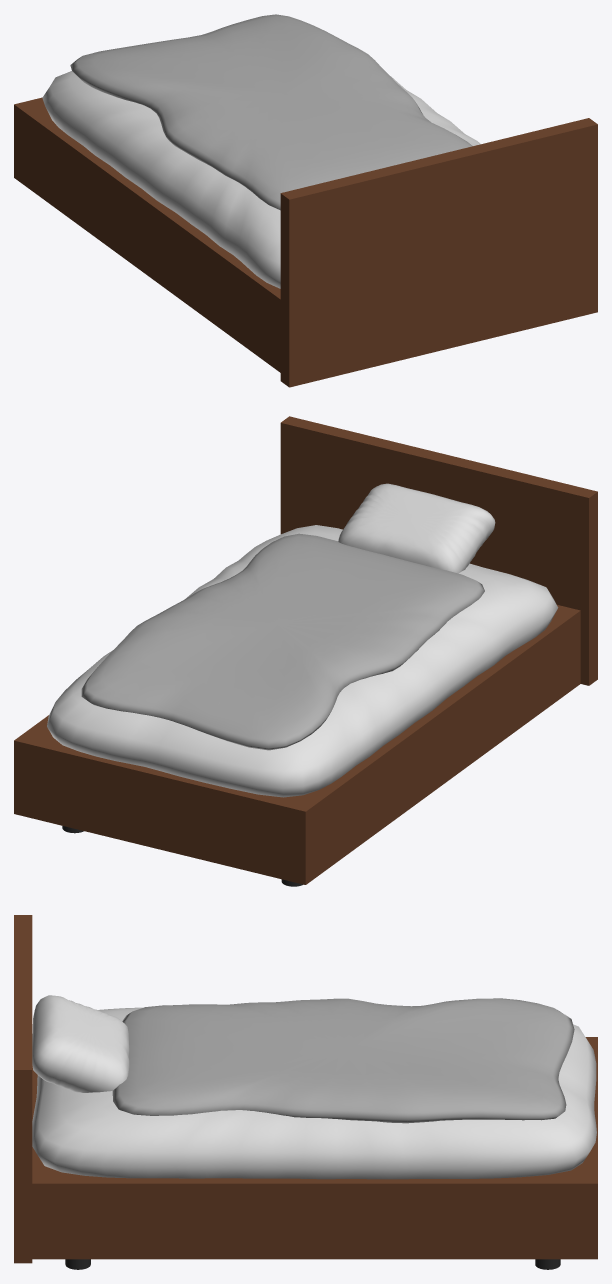
Rendered from Lit1_4.fbx.
The picture shows the model from 3 angles, top to bottom: view 1: azimuth 30°, elevation 25°; view 2: azimuth 150°, elevation 25°; view 3: azimuth 270°, elevation 25°; orthographic projection. The views are drawn at different scales.
Visible parts, largest first — view 1: pCube2134, pCylinder1817, pCube2135, pCylinder1506; view 2: pCylinder1817, pCube2135, pCylinder1506, pCube2134, pCylinder1507; view 3: pCylinder1817, pCube2135, pCylinder1506, pCylinder1507, pCube2134, pCylinder1508.
Boxes of the visible parts, x1=… form: pCube2134: x1=280, y1=118, x2=597, y2=387; pCylinder1817: x1=70, y1=14, x2=472, y2=210; pCube2135: x1=14, y1=97, x2=280, y2=372; pCylinder1506: x1=42, y1=71, x2=480, y2=288; pCylinder1817: x1=81, y1=533, x2=484, y2=750; pCube2135: x1=14, y1=605, x2=580, y2=884; pCylinder1506: x1=47, y1=525, x2=558, y2=797; pCube2134: x1=280, y1=416, x2=597, y2=685; pCylinder1507: x1=338, y1=483, x2=495, y2=573; pCylinder1817: x1=112, y1=998, x2=574, y2=1123; pCube2135: x1=32, y1=1037, x2=597, y2=1259; pCylinder1506: x1=32, y1=1007, x2=596, y2=1179; pCylinder1507: x1=32, y1=995, x2=129, y2=1092; pCube2134: x1=14, y1=915, x2=32, y2=1263; pCylinder1508: x1=65, y1=1259, x2=560, y2=1269.
Bounding box in the file's own units: 89.96 × 58.72 × 143.
